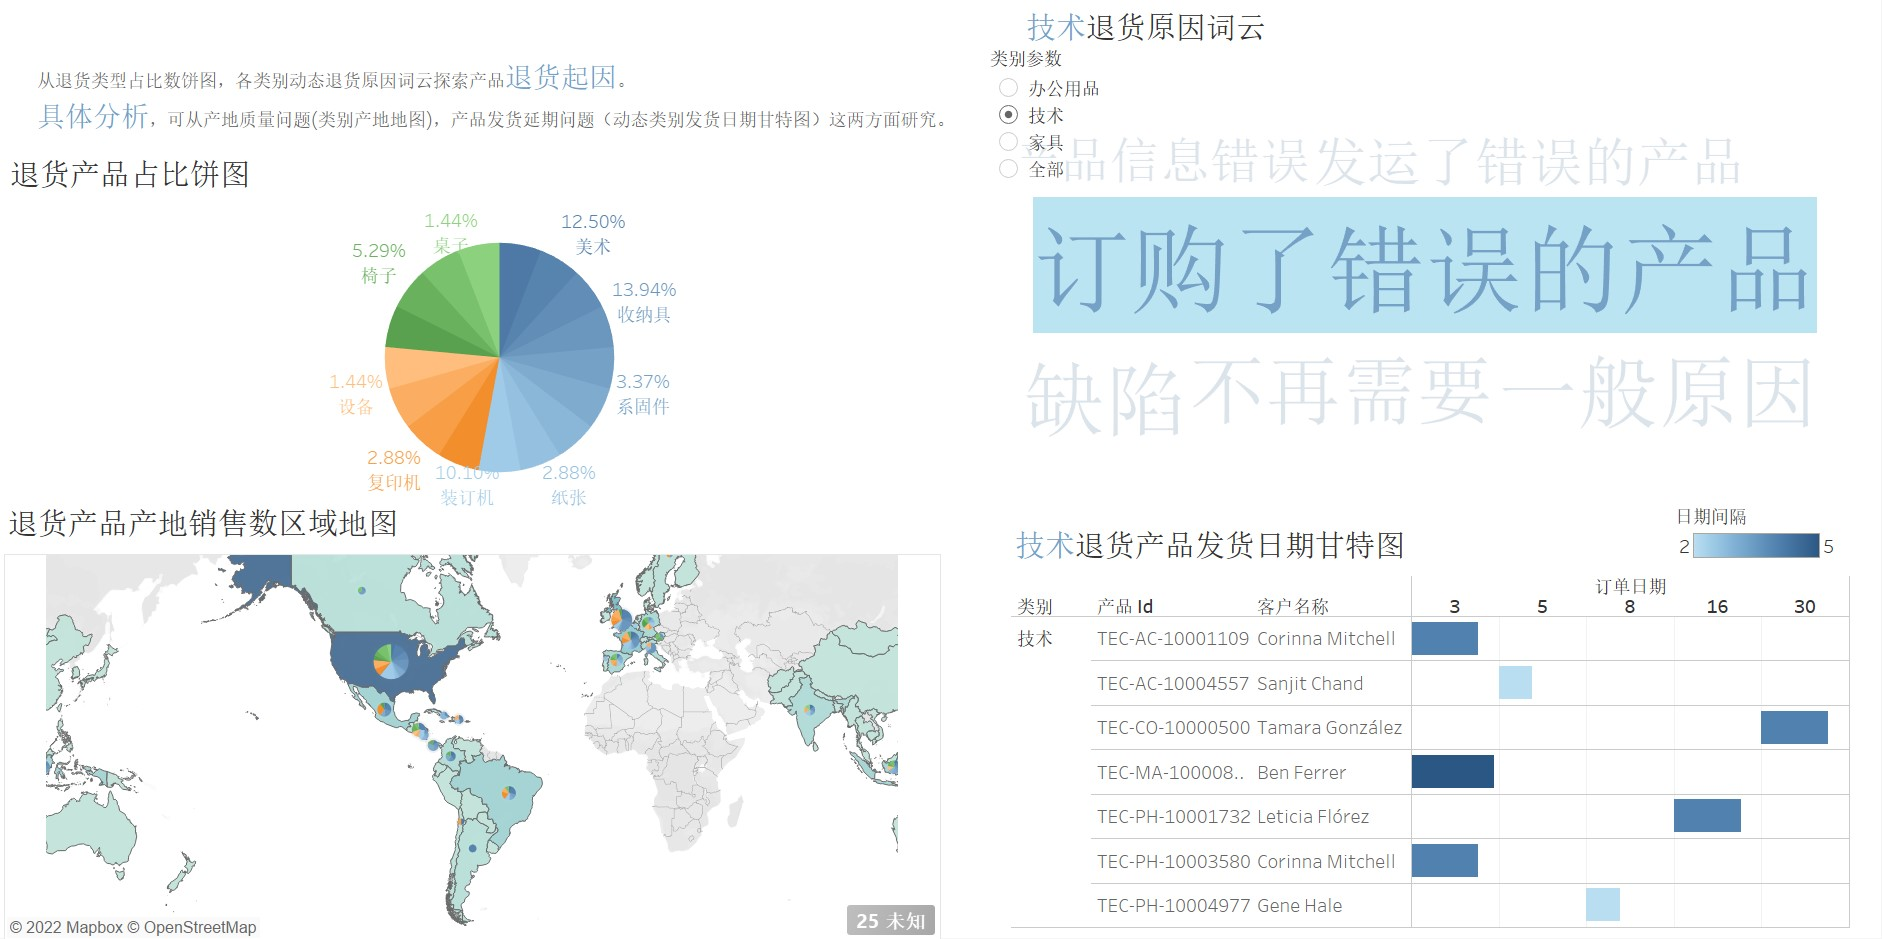

What the dashboard file says about the page in this screenshot:
{"tool":"tableau","page":{"name":"题目一：超市退货分析","canvas":[1000,1000],"units":"permille","ordinal":0},"visuals":[{"type":"worksheet","title":"退货原因词云","mark":"Text","box":[543,2.1,430.8,501.6]},{"type":"text","box":[17.5,16,506.9,173.6]},{"type":"parameter","param":"[Parameters].[参数 1]","box":[526.2,49,83.5,155.5]},{"type":"worksheet","title":"退货产品占比饼图","mark":"Pie","box":[3.1,158.7,524.3,385.5]},{"type":"worksheet","title":"退货产品产地销售数区域地图 ","mark":"Automatic","box":[1.9,530.4,498.1,472.8]},{"type":"legend","title":"退货产品发货日期甘特图","param":"[federated.19znnjo0yedmbu19rh8pq1hw388g].[sum:Calculation_1096626560835883010:qk","box":[890.3,536.7,87.3,106.5]},{"type":"worksheet","title":"退货产品发货日期甘特图","mark":"Bar","rows":["类别","产品 ID","客户名称"],"cols":["订单日期"],"box":[537.4,553.8,445.8,435.6]}]}

Visuals, with their boxes on the dashboard's canvas, which has no fixed pixel size, in thousandths of its width and height (x1, y1, x2, y2). These are canvas units, not pixel positions in the 1882x939 screenshot, which may show the page scaled, cropped or inside an application window:
"退货原因词云" worksheet (Text marks): (543, 2, 974, 504)
text: (18, 16, 524, 190)
parameter: (526, 49, 610, 204)
"退货产品占比饼图" worksheet (Pie marks): (3, 159, 527, 544)
"退货产品产地销售数区域地图 " worksheet: (2, 530, 500, 1003)
"退货产品发货日期甘特图" legend: (890, 537, 978, 643)
"退货产品发货日期甘特图" worksheet (Bar marks): (537, 554, 983, 989)
